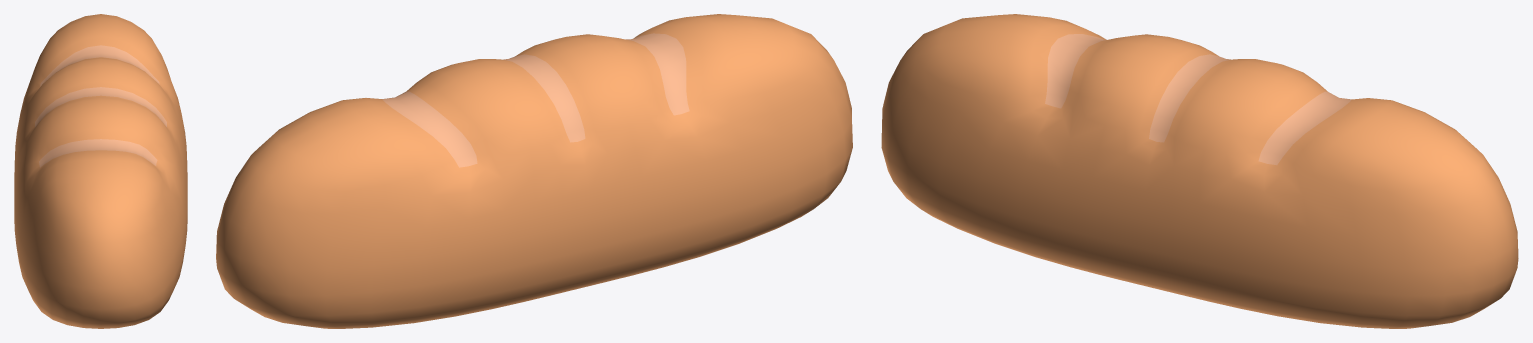
The model's file is Breadstick_01.fbx.
3 views of the same model, side by side, from view 1: azimuth 30°, elevation 25°; view 2: azimuth 150°, elevation 25°; view 3: azimuth 270°, elevation 25° (orthographic). The views are drawn at different scales.
Visible parts, largest first — view 1: Breadstick_01_LOD0; view 2: Breadstick_01_LOD0; view 3: Breadstick_01_LOD0.
Boxes of the visible parts, x1,y1,x2,y2 form: Breadstick_01_LOD0: (14,14,187,328); Breadstick_01_LOD0: (216,14,852,328); Breadstick_01_LOD0: (881,14,1518,328).
Size of what is drawn, in the model's own units: 636 by 334 by 930.
